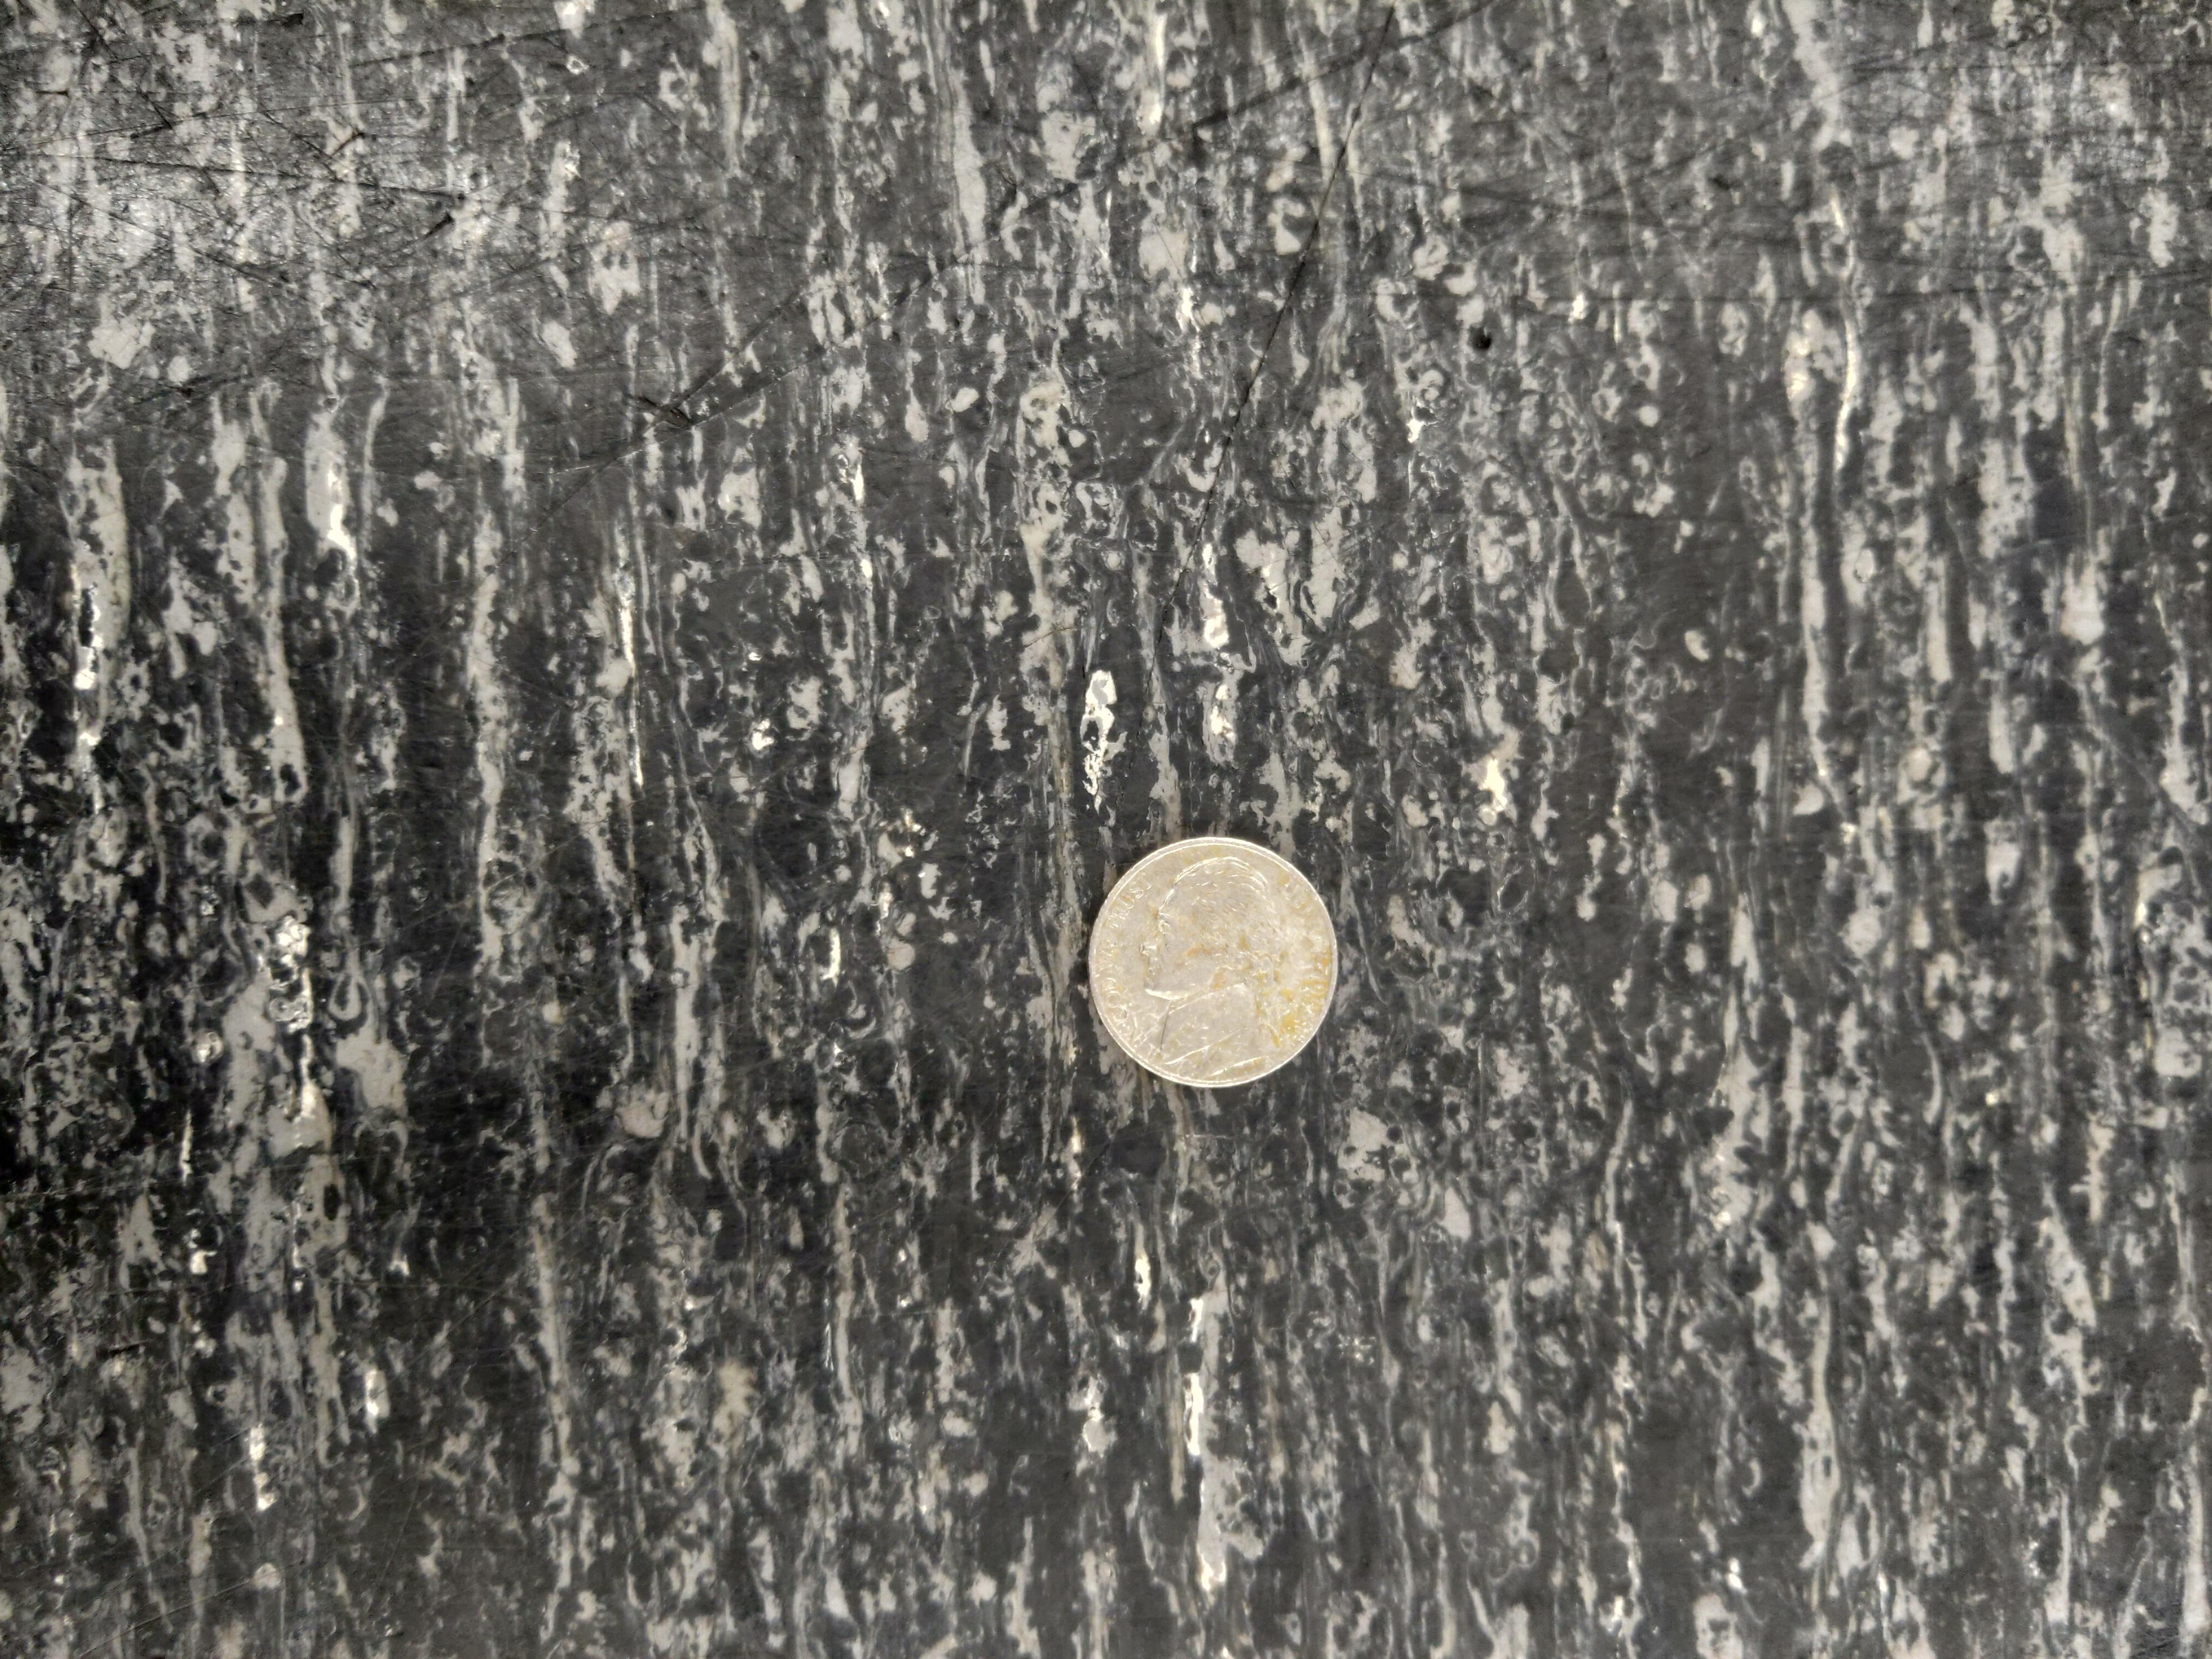Nickel: (1083, 831, 1346, 1096)
